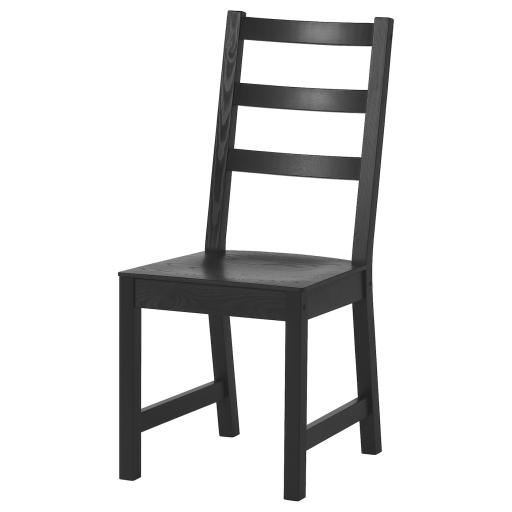chair: (118, 10, 394, 501)
